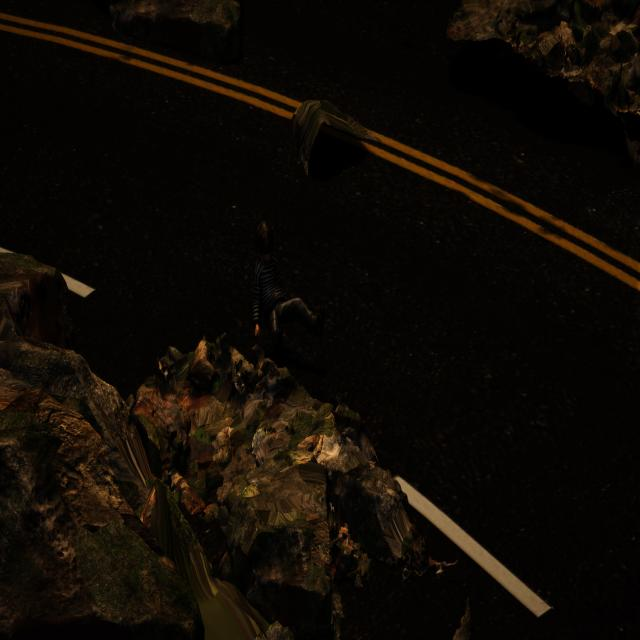Human: (246, 209, 324, 367)
